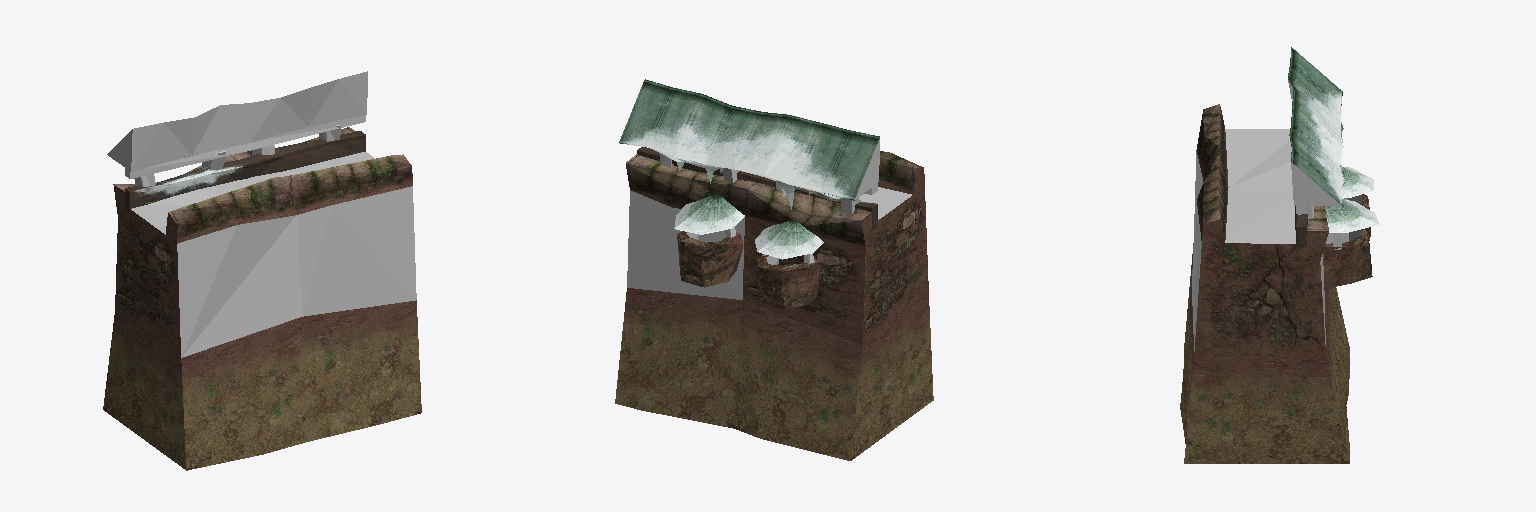
The picture shows the model from 3 angles: view 1: azimuth 30°, elevation 25°; view 2: azimuth 150°, elevation 25°; view 3: azimuth 270°, elevation 25°; orthographic projection.
Visible parts, largest first — view 1: Node 0; view 2: Node 0; view 3: Node 0.
Part boxes in pixels (x1,y1,x2,y2): Node 0: (103, 71, 421, 470); Node 0: (615, 79, 933, 460); Node 0: (1180, 47, 1379, 463).
Bounding box in the file's own units: 10 × 12.41 × 7.34.
4 materials, 3 textured.